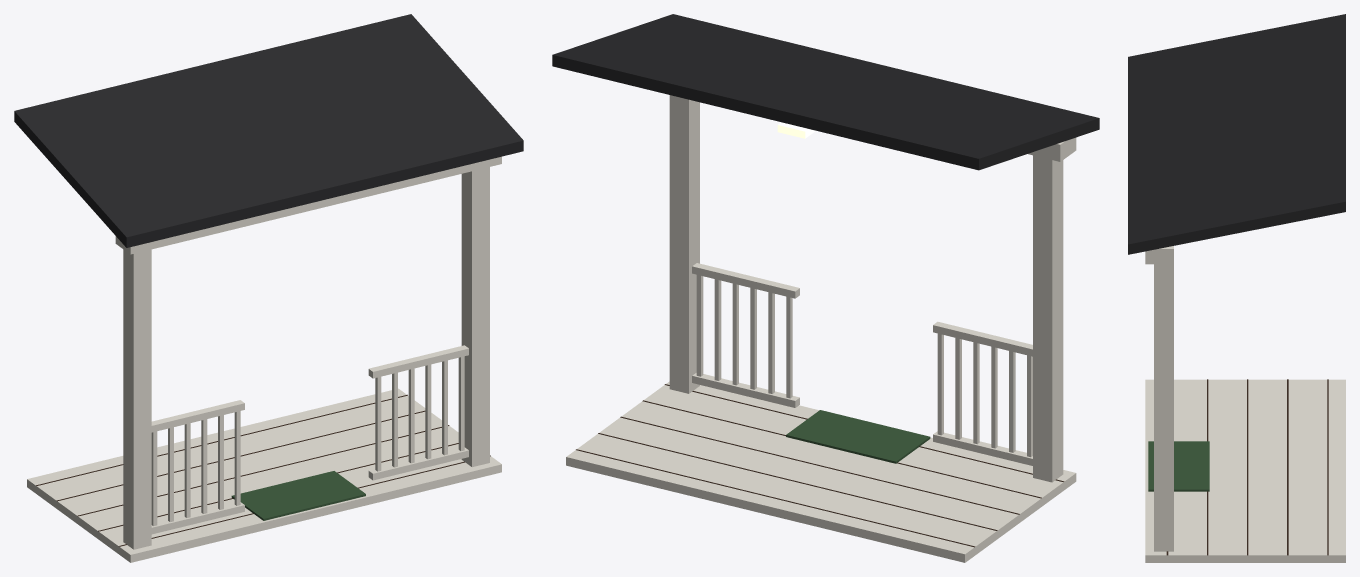
File: front_porch.glb
3 renders of one model, left to right at view 1: azimuth 30°, elevation 25°; view 2: azimuth 150°, elevation 25°; view 3: azimuth 270°, elevation 25°, orthographic. The views are drawn at different scales.
Parts seen in each view (by area): view 1: front_porch; view 2: front_porch; view 3: front_porch.
Boxes of the visible parts, <box> form: front_porch: <box>14,14,523,562</box>; front_porch: <box>552,14,1099,562</box>; front_porch: <box>1128,14,1345,562</box>.
Bounding box in the file's own units: 3.1 × 2.83 × 1.52.
1 material, 1 textured.
